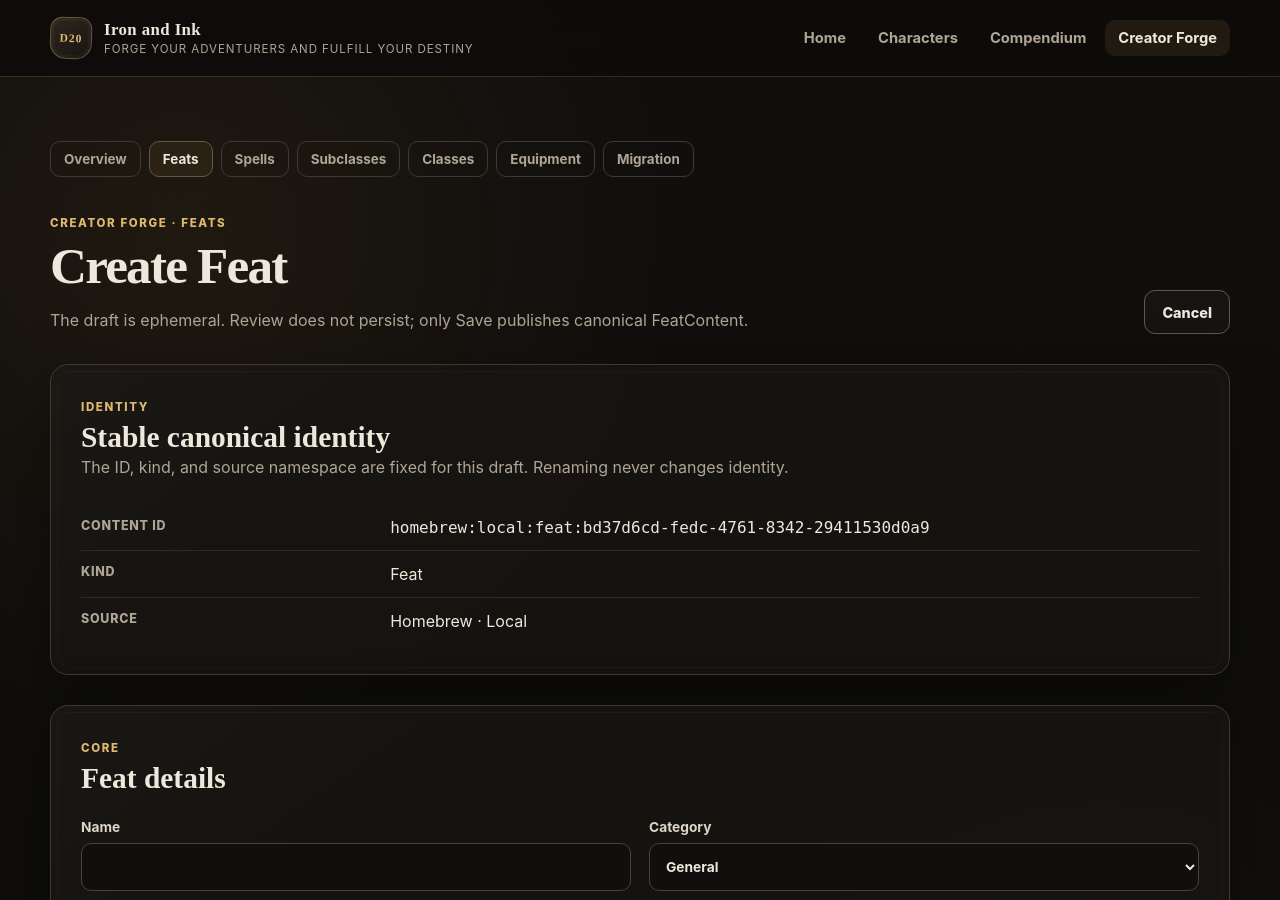
Test: M16-G routed referential-integrity acceptance › creates an unused Feat through the real Forge UI, preflights, confirms, and deletes it live
This screenshot has width=1280, height=900.
Type "Disposable Feat" into the field named "Feat name" at [356, 867], box [81,843,631,891]
(page scrolled)
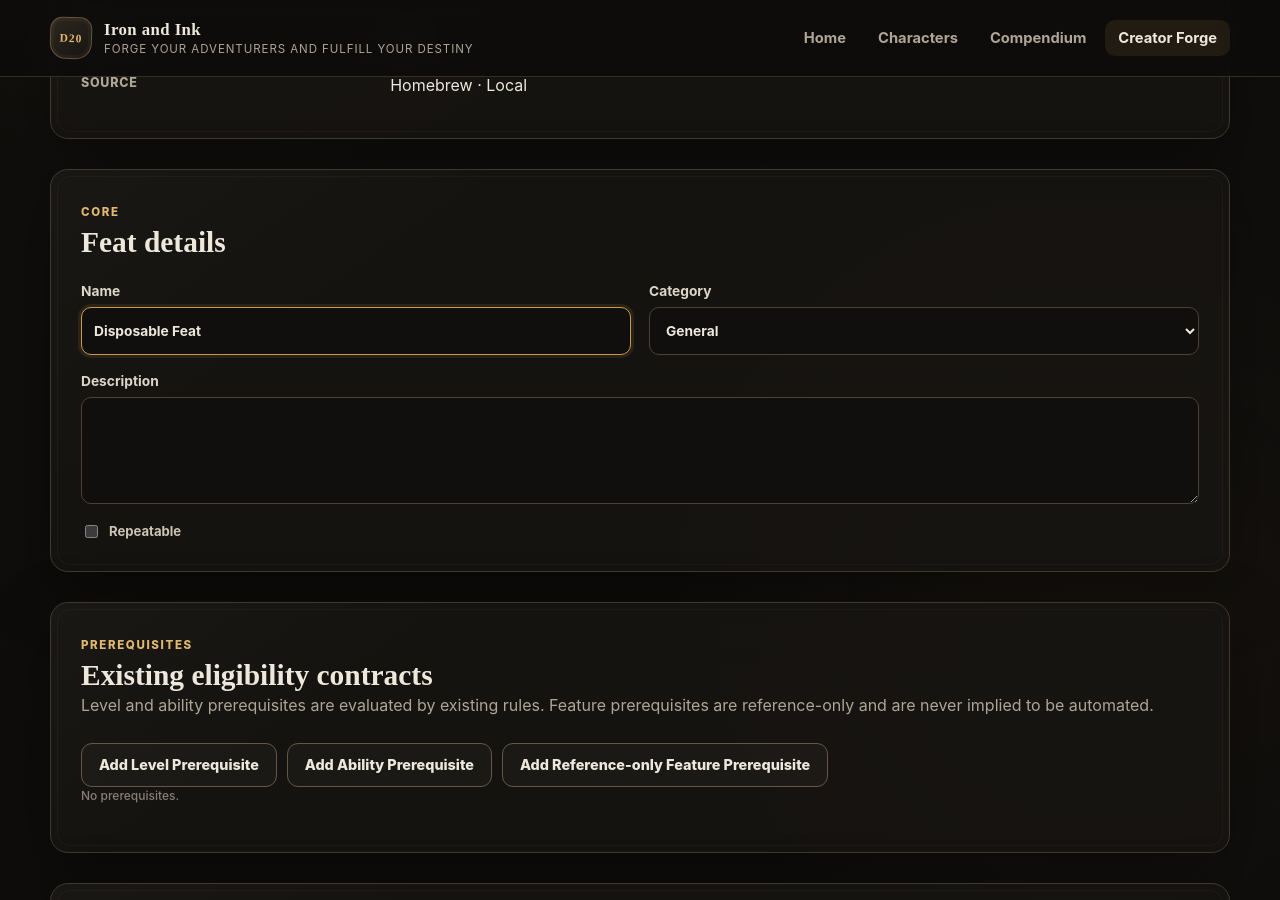
Type "Created and deleted through M16-G UI." into the text box named "Feat description" at [640, 450], box [81,397,1199,504]
(page scrolled)
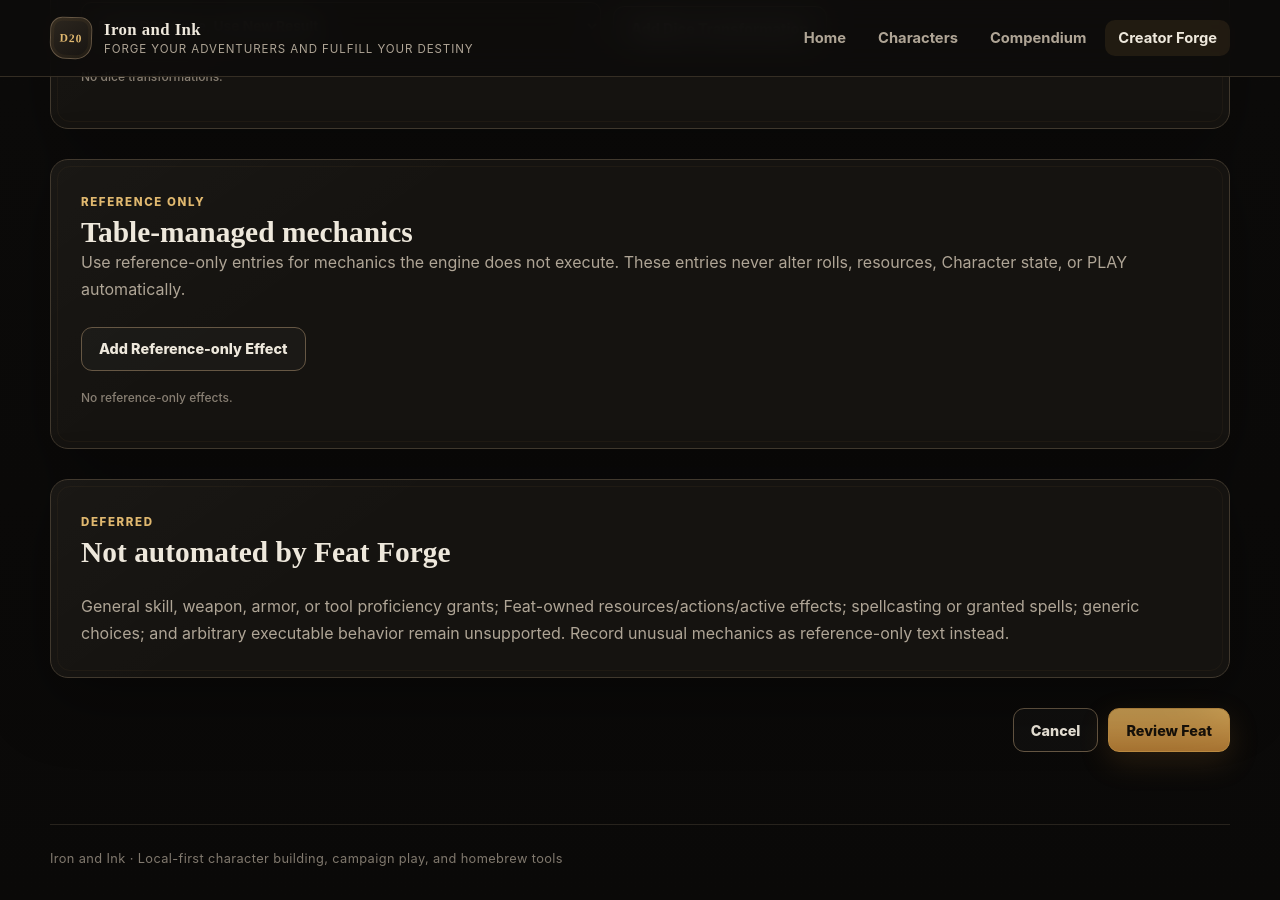
Click the button "Review Feat" at [1169, 730], box [1108,708,1230,752]
(page scrolled)
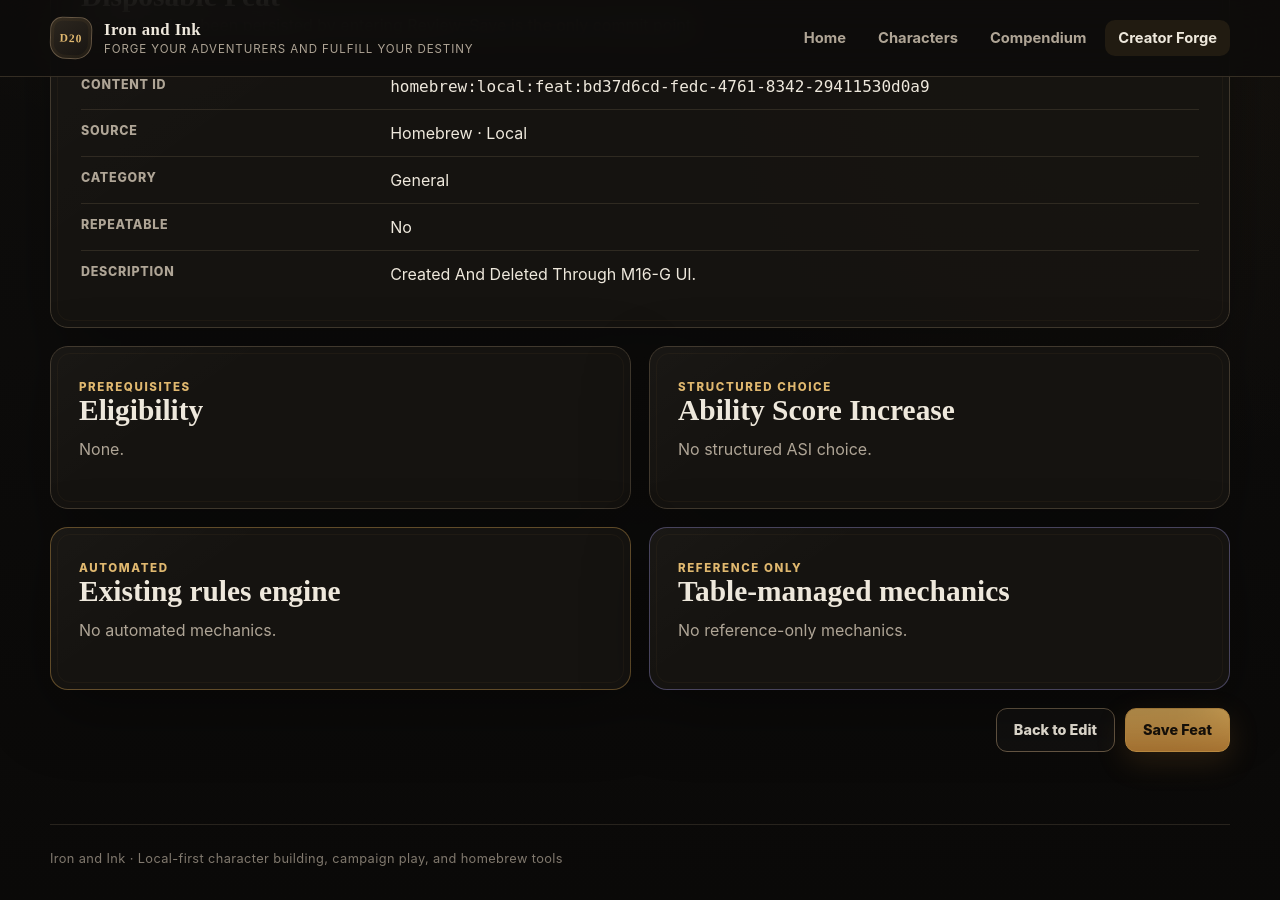
Click the button "Save Feat" at [1178, 730], box [1125,708,1230,752]
(page scrolled)
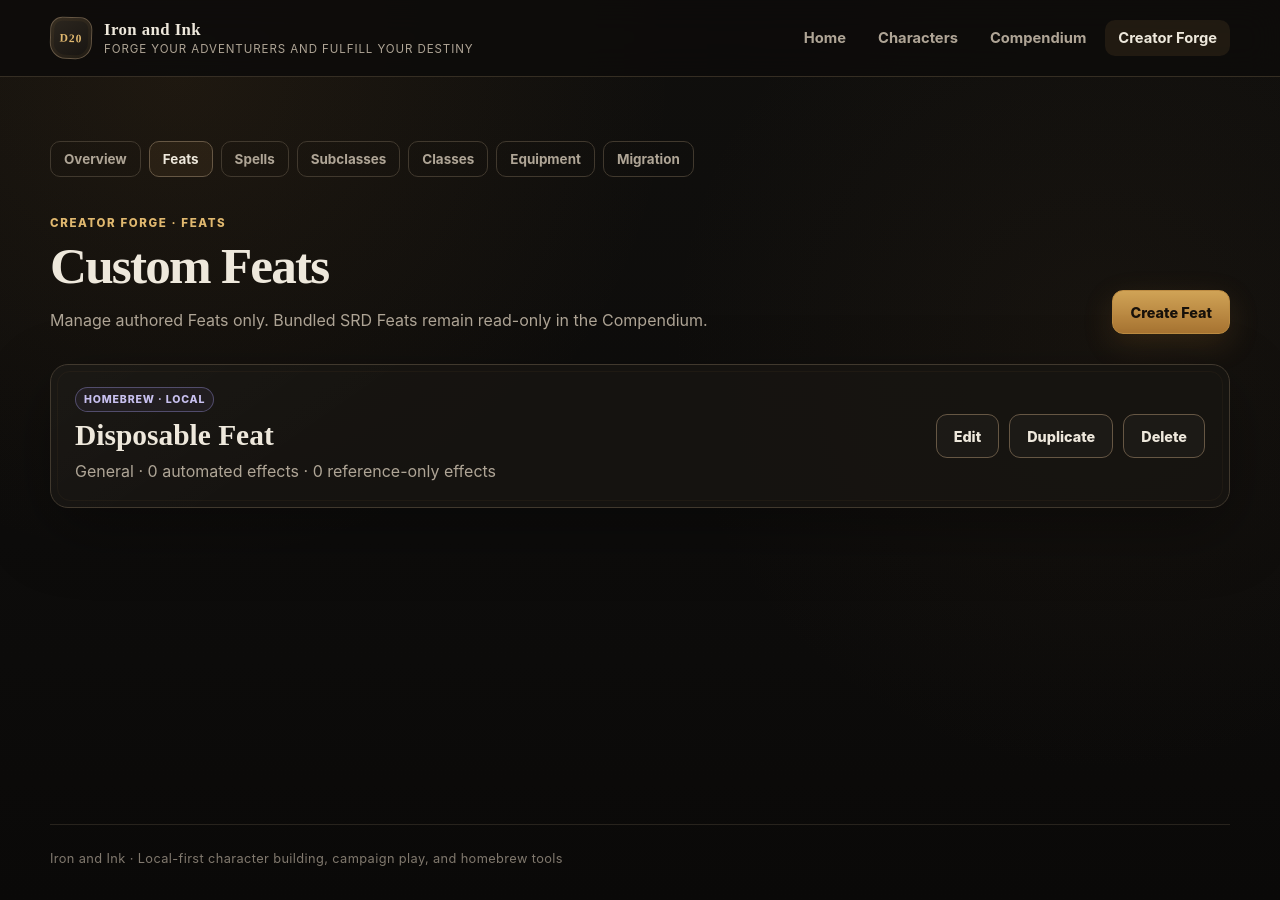
Check: the heading "Disposable Feat" is shown, box [75,420,274,452]
Check: the heading "Custom Feats" is shown, box [50,237,328,294]
Click the button "Delete" at [1164, 436], box [1123,414,1205,458]
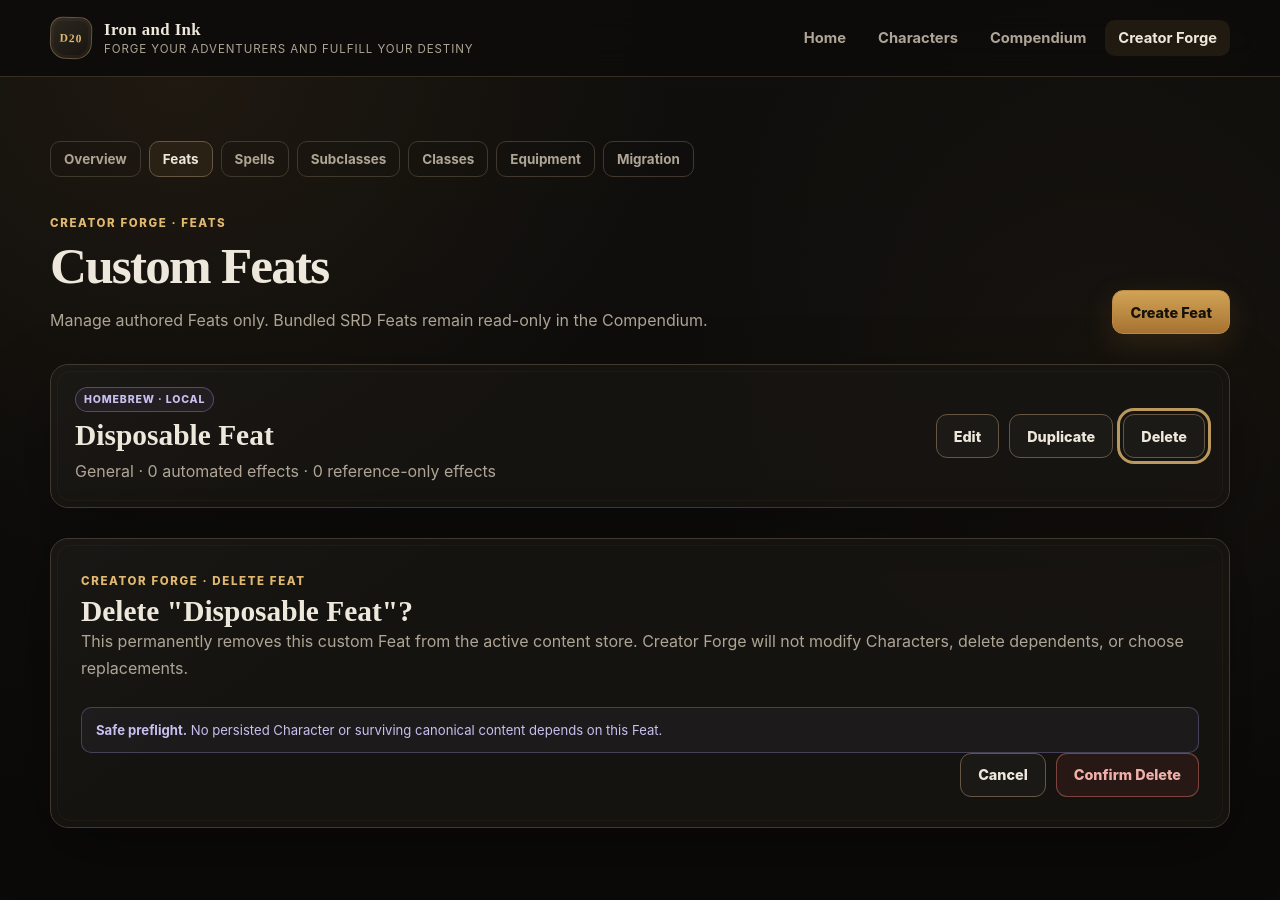
Check: the dialog is shown, box [50,538,1230,828]
Check: the heading "Delete \"Disposable Feat\"?" is shown, box [81,596,413,628]
Check: the text "Safe preflight." is shown, box [96,722,187,738]
Click the button "Confirm Delete" at [1127, 775], box [1056,753,1199,797]
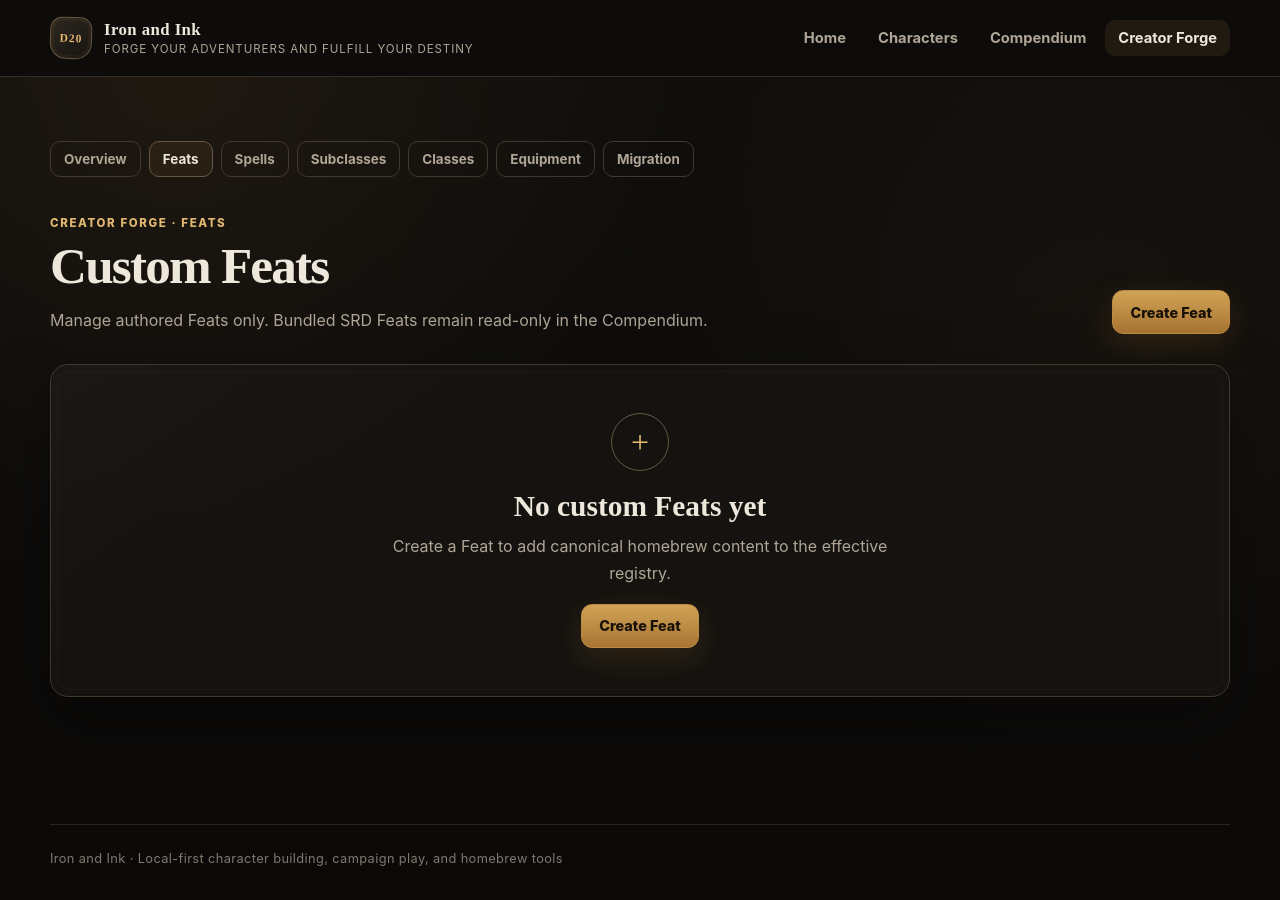
Check: the heading "No custom Feats yet" is shown, box [514,492,766,523]
